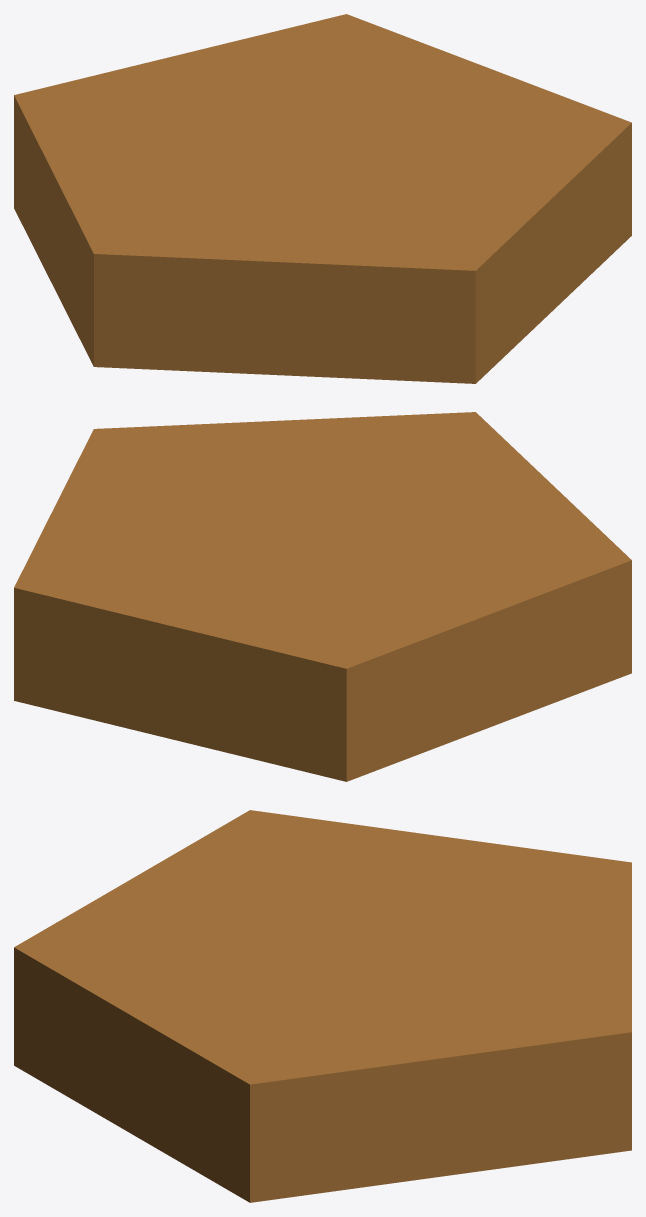
The model's file is Coin.fbx.
The picture shows the model from 3 angles, top to bottom: view 1: azimuth 30°, elevation 25°; view 2: azimuth 150°, elevation 25°; view 3: azimuth 270°, elevation 25°; orthographic projection. The views are drawn at different scales.
Visible parts, largest first — view 1: Coin; view 2: Coin; view 3: Coin.
Boxes of the visible parts, x1=… form: Coin: x1=14, y1=14, x2=631, y2=383; Coin: x1=14, y1=412, x2=631, y2=781; Coin: x1=14, y1=810, x2=631, y2=1202.
Bounding box in the file's own units: 0.1146 × 0.109 × 0.023.
